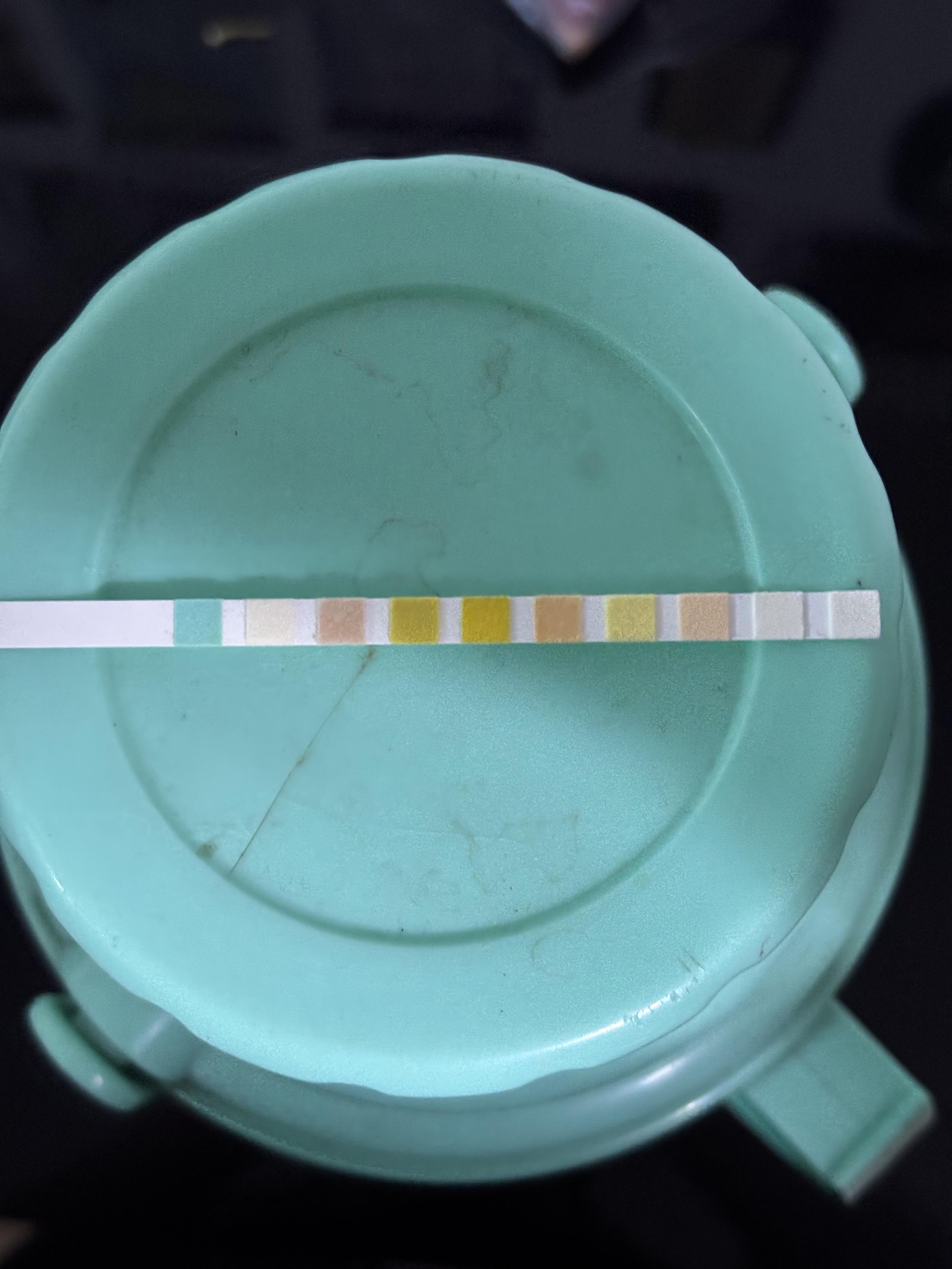Bilirubin: (249, 602, 291, 644)
Blood: (465, 599, 508, 643)
Glucose: (177, 601, 221, 645)
Ketone: (319, 601, 364, 643)
Leukocytes: (833, 592, 879, 637)
Nitrite: (757, 594, 800, 639)
Protein: (609, 597, 653, 640)
SpGravity: (392, 600, 437, 643)
Urobilinogen: (682, 596, 726, 639)
pH: (538, 599, 580, 642)
strip: (1, 590, 881, 647)
